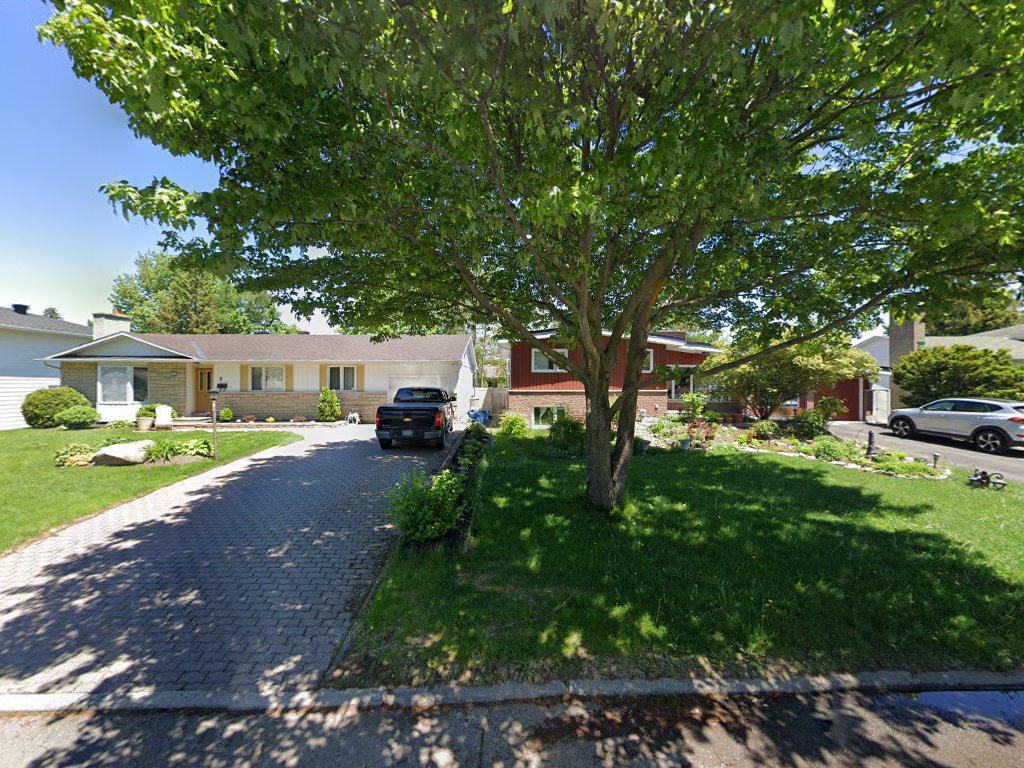trunk: (573, 309, 646, 517)
